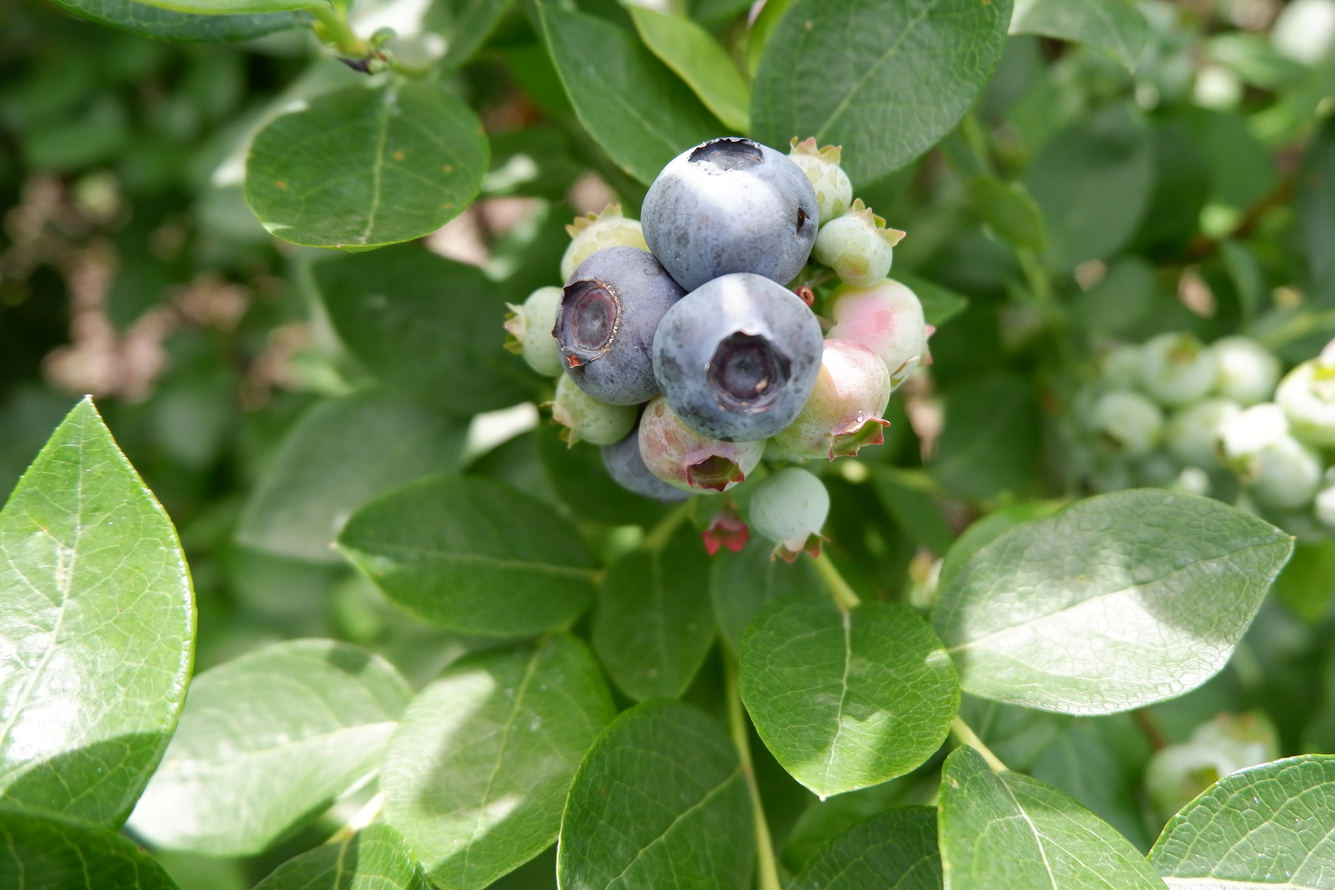Immature: (776, 339, 889, 461), (826, 279, 929, 390), (640, 399, 763, 489), (749, 468, 828, 561), (819, 203, 901, 287), (563, 205, 645, 283), (554, 373, 636, 442), (788, 139, 850, 225), (506, 287, 562, 375)
Mature: (657, 276, 821, 440), (642, 139, 816, 286), (557, 248, 681, 400), (604, 425, 683, 501)
